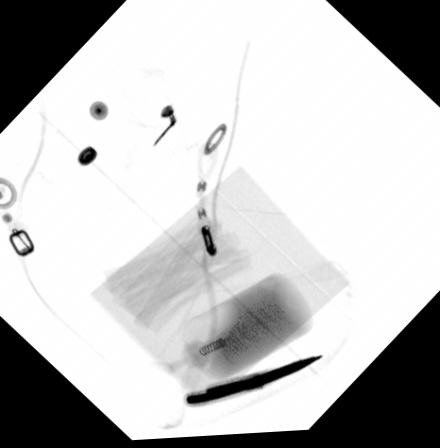Pliers: (181, 358, 324, 410)
